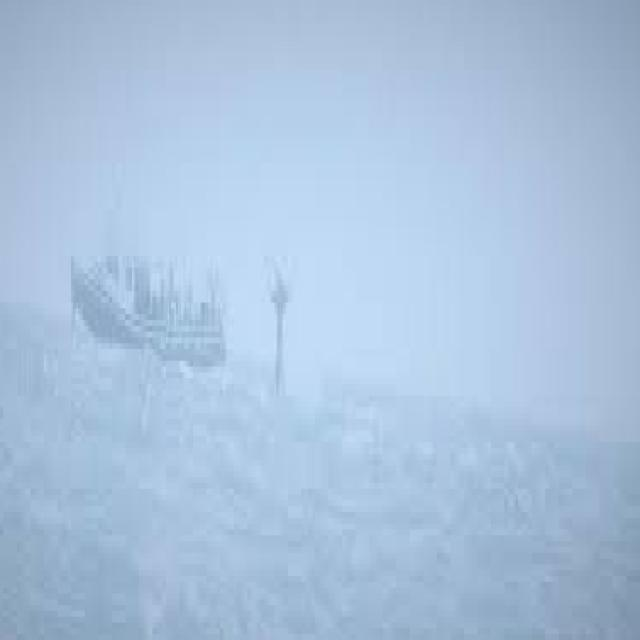fishing boat: (55, 205, 236, 376)
